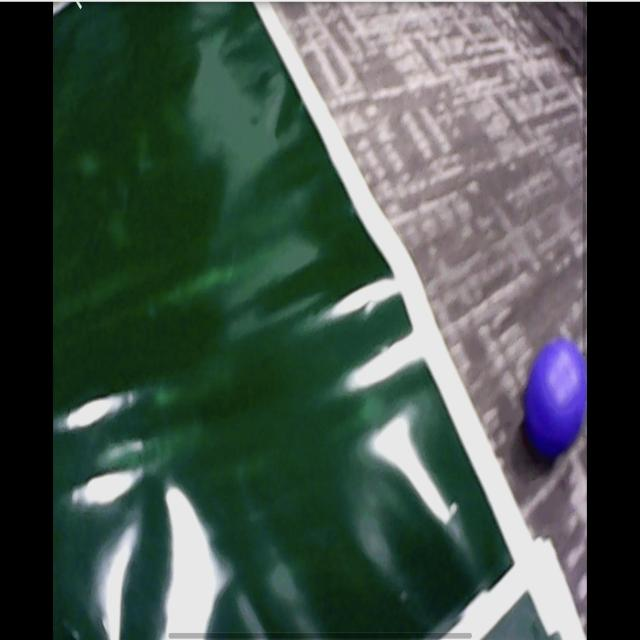ball: (522, 338, 586, 457)
